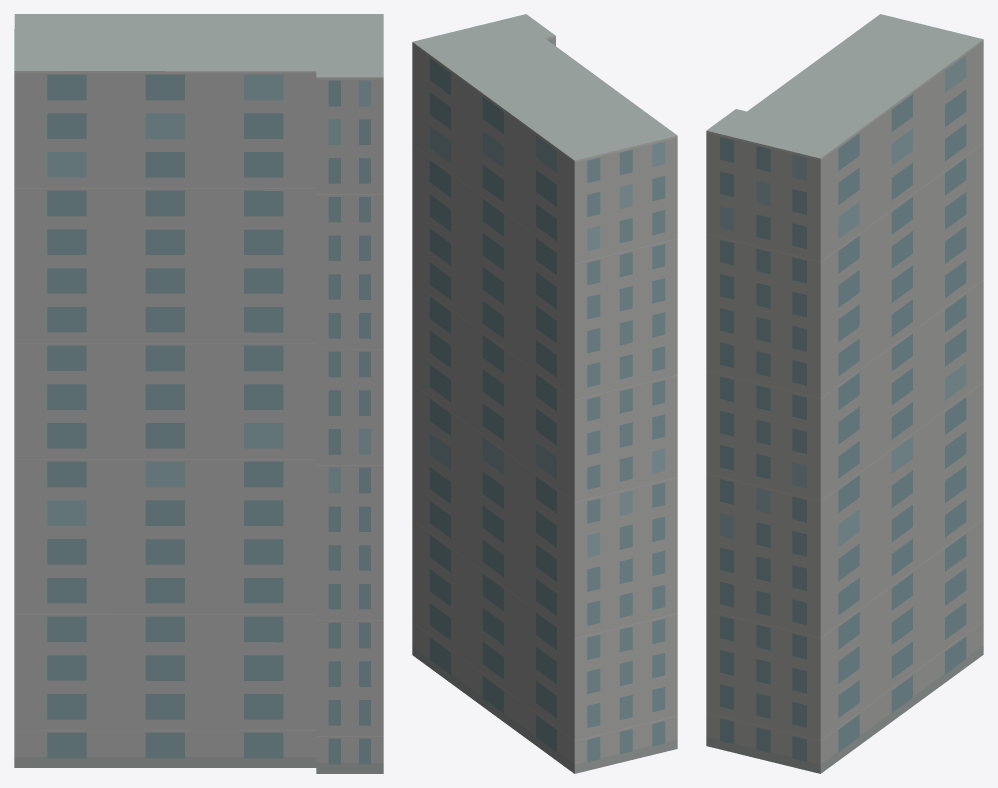
The model's file is residential-27e234bf-7fc8-4c88-86b9-dcc213a397d5.glb.
3 renders of one model, left to right at view 1: azimuth 30°, elevation 25°; view 2: azimuth 150°, elevation 25°; view 3: azimuth 270°, elevation 25°, orthographic. The views are drawn at different scales.
Visible parts, largest first — view 1: residential-27e234bf-7fc8-4c88-86b9-dcc213a397d5.tmp; view 2: residential-27e234bf-7fc8-4c88-86b9-dcc213a397d5.tmp; view 3: residential-27e234bf-7fc8-4c88-86b9-dcc213a397d5.tmp.
Part boxes in pixels (bbox=[...]): residential-27e234bf-7fc8-4c88-86b9-dcc213a397d5.tmp: bbox=[14, 14, 383, 773]; residential-27e234bf-7fc8-4c88-86b9-dcc213a397d5.tmp: bbox=[412, 14, 677, 773]; residential-27e234bf-7fc8-4c88-86b9-dcc213a397d5.tmp: bbox=[706, 14, 983, 773].
Size of the model in its own units: 37.8 by 75 by 30.66.
